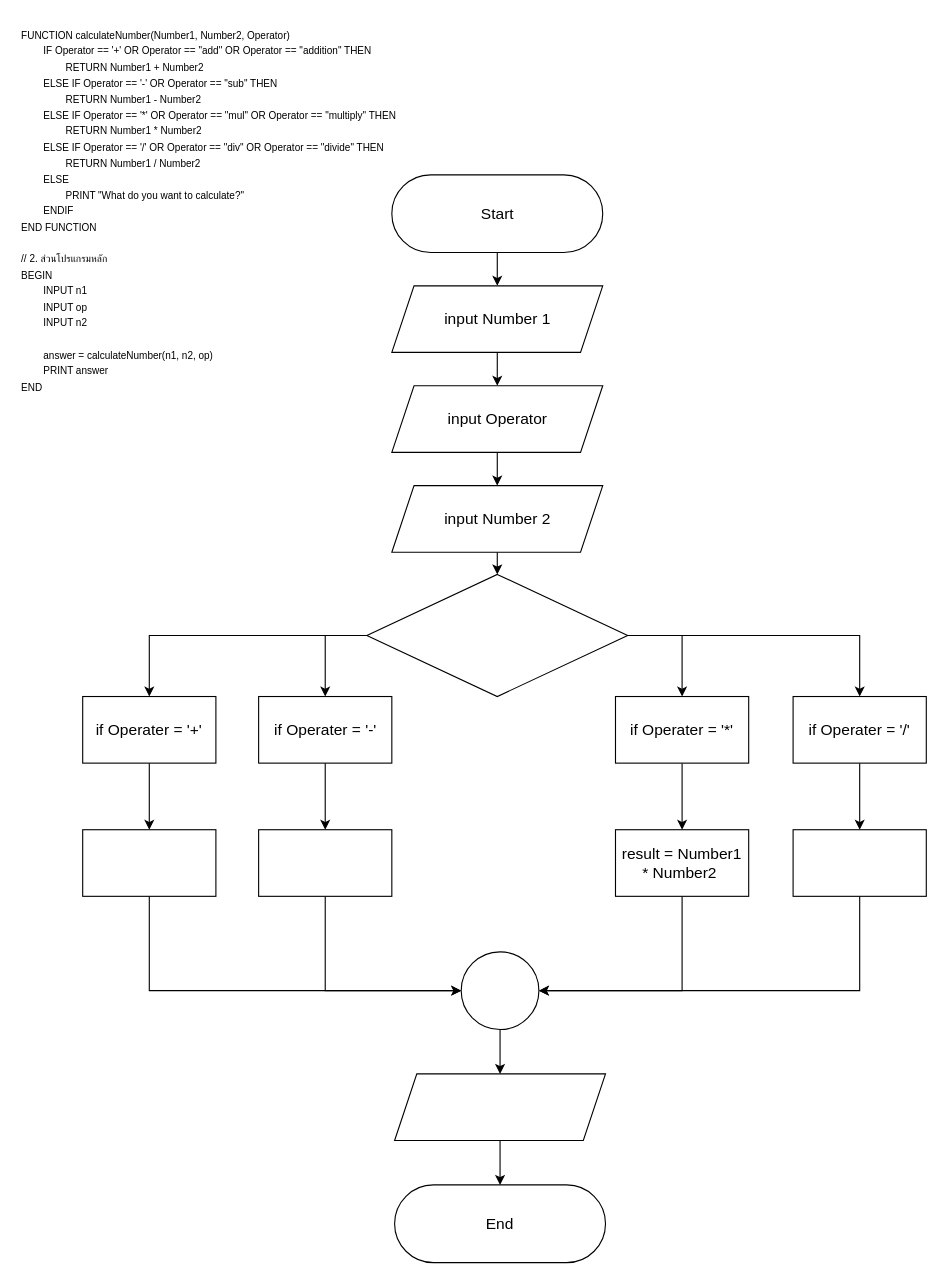
Image size: 946x1282. Some labels were removed from this diagram. The centre of each missing label's shape, as x and y in pixels:
"Operator is what?" belongs at (497,635).
"output = print(result)" belongs at (499,1107).
"result = Number1 + Number2" belongs at (149,862).
"result = Number1 - Number2" belongs at (325,862).
"result = Number1 / Number2" belongs at (859,862).
